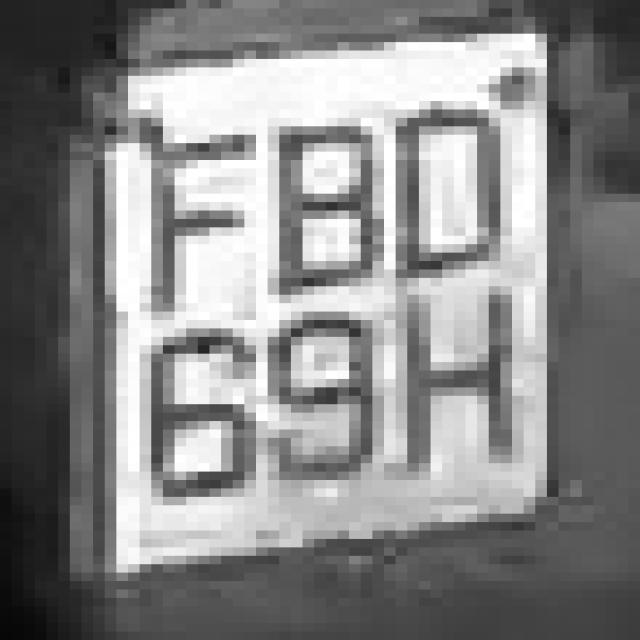6: (116, 278, 245, 539)
9: (256, 295, 372, 497)
B: (245, 84, 372, 303)
D: (396, 76, 512, 286)
F: (116, 93, 256, 303)
H: (384, 295, 535, 497)
